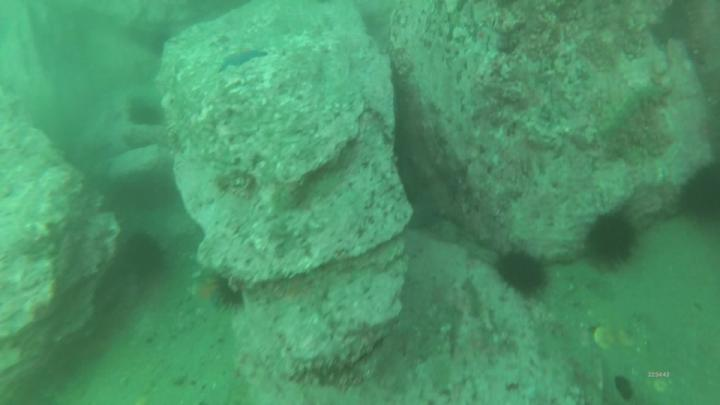echinus: (592, 216, 639, 267), (498, 251, 550, 294), (126, 237, 167, 275), (126, 102, 160, 128)
starfish: (222, 48, 270, 68), (190, 284, 218, 313)
